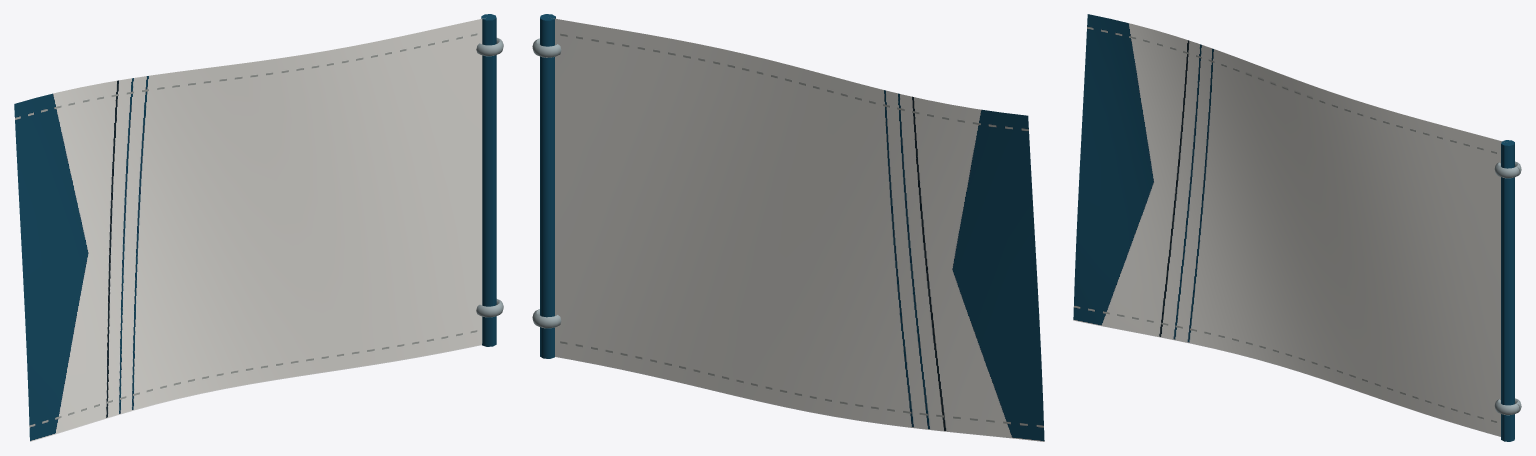
The model's file is Pennant_03_N_水線・藍白.glb.
The picture shows the model from 3 angles, left to right: view 1: azimuth 30°, elevation 25°; view 2: azimuth 150°, elevation 25°; view 3: azimuth 330°, elevation 25°; orthographic projection. The views are drawn at different scales.
Visible parts, largest first — view 1: Pennant_03_N; view 2: Pennant_03_N; view 3: Pennant_03_N.
Part boxes in pixels (box(x1,y1,x2,y2)): Pennant_03_N: box(14, 14, 503, 441); Pennant_03_N: box(532, 14, 1044, 441); Pennant_03_N: box(1073, 14, 1521, 441).
Size of the model in its own units: 0.2782 by 0.193 by 0.0198.
3 materials, 3 textured.
